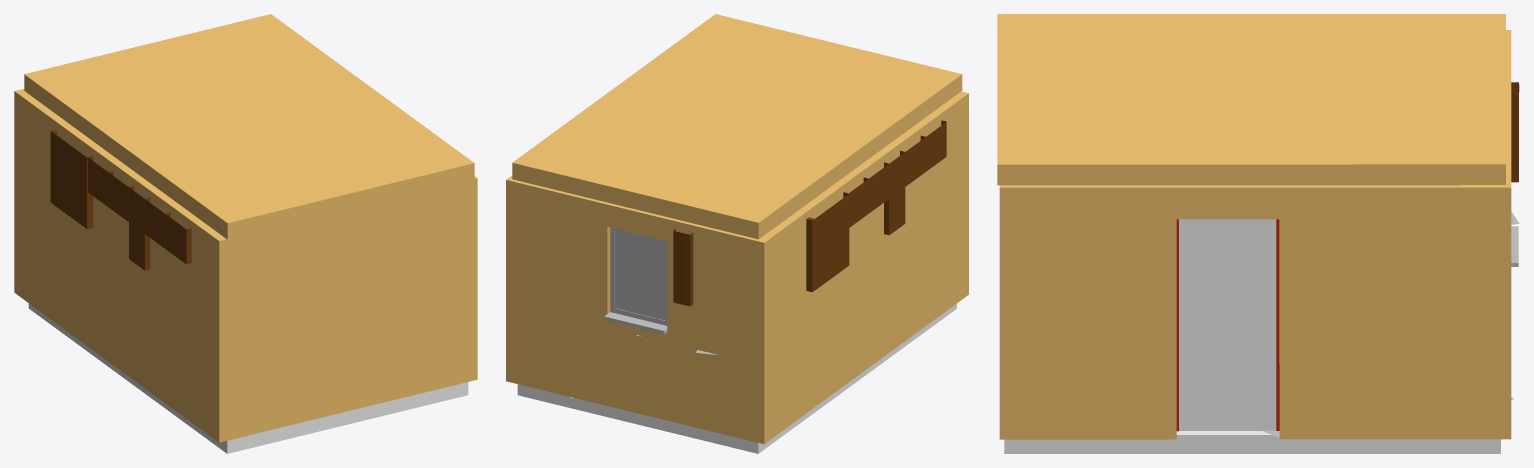
The model's file is FloorPlan28_physics.fbx.
3 views of the same model, side by side, from view 1: azimuth 30°, elevation 25°; view 2: azimuth 150°, elevation 25°; view 3: azimuth 270°, elevation 25° (orthographic). The views are drawn at different scales.
Visible parts, largest first — view 1: Room, Ceiling, Cube.090, Floor; view 2: Room, Ceiling, Cube.090, Floor, Window, VenetianFrame; view 3: Room, Ceiling, Door, Floor, DoorFrame, Cube.090.
Part boxes in pixels (x1,y1,x2,y2): Room: (14,89,477,442); Ceiling: (24,14,474,239); Cube.090: (50,129,191,270); Floor: (28,303,468,453); Room: (506,91,968,443); Ceiling: (512,14,962,239); Cube.090: (673,120,946,306); Floor: (517,303,956,453); Window: (615,231,665,320); VenetianFrame: (604,227,667,334); Room: (999,30,1511,439); Ceiling: (997,14,1505,185); Door: (1179,219,1276,430); Floor: (1004,431,1500,453); DoorFrame: (1176,219,1279,431); Cube.090: (1511,82,1519,182).
Size of the model in its own units: 331 by 278 by 451.
